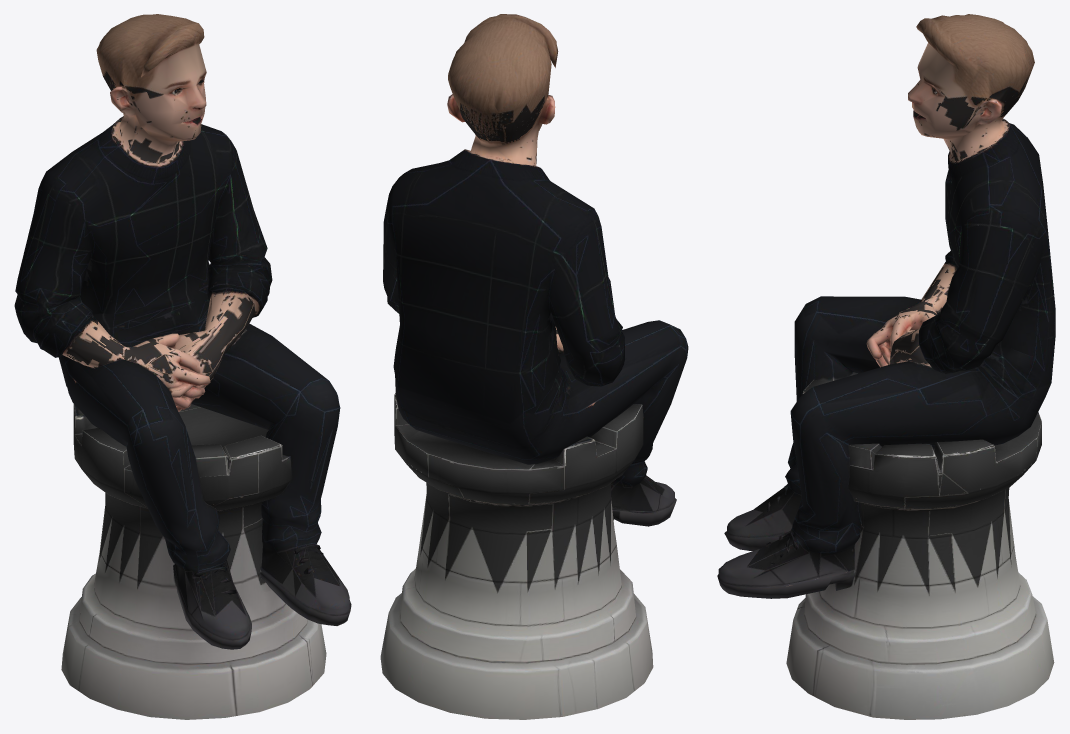
File: selected.glb
3 views of the same model, side by side, from view 1: azimuth 30°, elevation 25°; view 2: azimuth 150°, elevation 25°; view 3: azimuth 270°, elevation 25° (orthographic). The views are drawn at different scales.
Visible parts, largest first — view 1: tripo_node_13b20d3c-01ea-4338-8728-752922d211e0; view 2: tripo_node_13b20d3c-01ea-4338-8728-752922d211e0; view 3: tripo_node_13b20d3c-01ea-4338-8728-752922d211e0.
Part boxes in pixels (x1,y1,x2,y2): tripo_node_13b20d3c-01ea-4338-8728-752922d211e0: (14,14,351,719); tripo_node_13b20d3c-01ea-4338-8728-752922d211e0: (380,14,688,719); tripo_node_13b20d3c-01ea-4338-8728-752922d211e0: (717,14,1055,719).
Size of the model in its own units: 0.416 by 0.998 by 0.4785.
Materials: 1 (1 with a texture image).
